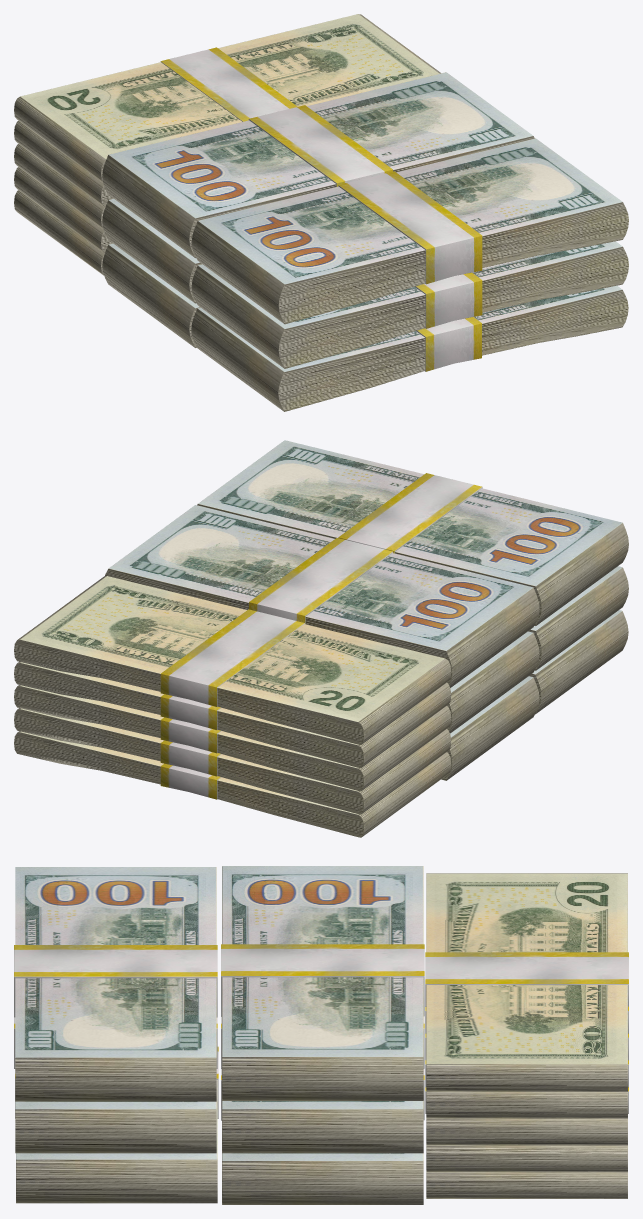
3 views of the same model, one above another, from view 1: azimuth 30°, elevation 25°; view 2: azimuth 150°, elevation 25°; view 3: azimuth 270°, elevation 25° (orthographic). The views are drawn at different scales.
Parts seen in each view (by area): view 1: stacks of money, stacks of money.001, stacks of money.004, stacks of money.006, stacks of money.005, stacks of money.003, stacks of money.002; view 2: stacks of money.001, stacks of money.004, stacks of money, stacks of money.006, stacks of money.003, stacks of money.002, stacks of money.005; view 3: stacks of money.001, stacks of money, stacks of money.004, stacks of money.006, stacks of money.003, stacks of money.002, stacks of money.005.
Boxes of the visible parts, left/top/right/bottom form: stacks of money: left=191, top=138, right=628, bottom=324; stacks of money.001: left=14, top=14, right=440, bottom=275; stacks of money.004: left=102, top=72, right=534, bottom=257; stacks of money.006: left=191, top=241, right=628, bottom=368; stacks of money.005: left=191, top=285, right=628, bottom=411; stacks of money.003: left=102, top=198, right=201, bottom=303; stacks of money.002: left=102, top=243, right=200, bottom=347; stacks of money.001: left=14, top=576, right=451, bottom=837; stacks of money.004: left=105, top=505, right=539, bottom=687; stacks of money: left=197, top=440, right=628, bottom=625; stacks of money.006: left=528, top=566, right=628, bottom=670; stacks of money.003: left=447, top=631, right=539, bottom=733; stacks of money.002: left=441, top=676, right=539, bottom=780; stacks of money.005: left=529, top=610, right=628, bottom=714; stacks of money.001: left=425, top=873, right=628, bottom=1198; stacks of money: left=14, top=867, right=217, bottom=1101; stacks of money.004: left=221, top=866, right=424, bottom=1100; stacks of money.006: left=14, top=1017, right=217, bottom=1153; stacks of money.003: left=221, top=1016, right=424, bottom=1153; stacks of money.002: left=221, top=1069, right=424, bottom=1204; stacks of money.005: left=15, top=1046, right=218, bottom=1203.
Size of the model in its own units: 2.64 by 0.9448 by 3.47.
2 materials, 2 textured.
